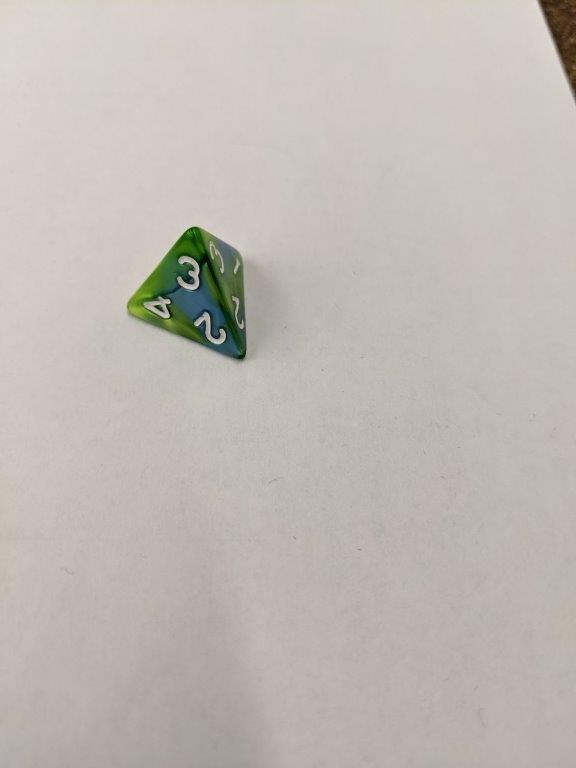d4-3: (125, 225, 251, 364)
